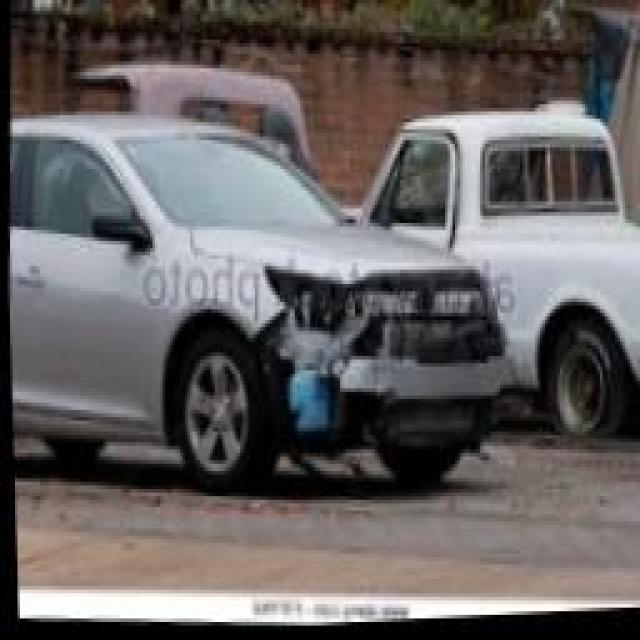Bumper: (266, 265, 503, 453)
Light: (260, 266, 344, 354)
